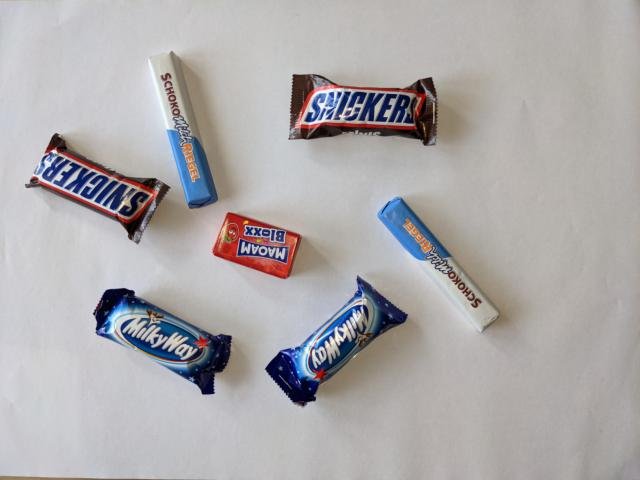MAOAM: (211, 210, 304, 281)
MilkyWay: (261, 271, 411, 412), (89, 285, 236, 399)
Schokoriegel: (373, 194, 507, 338), (141, 46, 222, 212)
Snickers: (22, 129, 174, 247), (284, 71, 444, 150)
